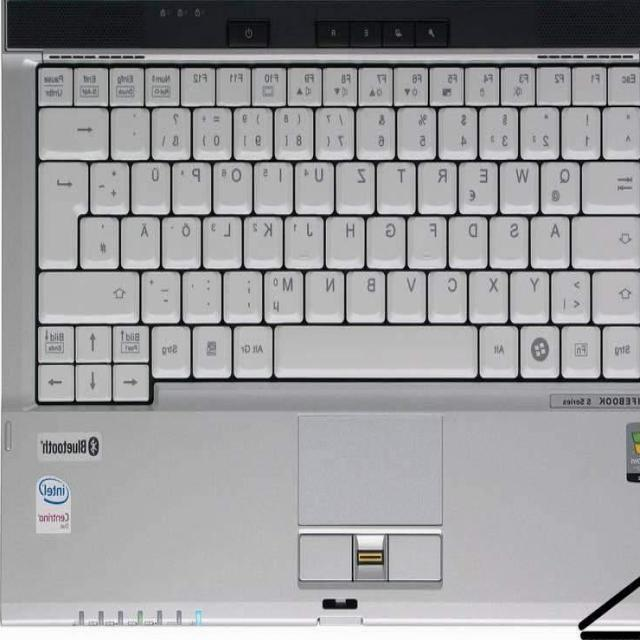0: (195, 103, 235, 157)
1: (565, 103, 603, 156)
2: (523, 103, 563, 157)
3: (482, 103, 522, 157)
4: (441, 103, 480, 157)
5: (400, 103, 440, 157)
6: (359, 103, 398, 157)
7: (317, 103, 357, 157)
8: (276, 102, 316, 158)
9: (235, 103, 275, 157)
a: (533, 211, 572, 265)
accent: (114, 103, 153, 157)
ae: (123, 212, 163, 266)
alt-left: (481, 320, 521, 376)
altgr-right: (235, 320, 275, 376)
b: (349, 265, 389, 319)
c: (430, 266, 470, 319)
caret: (606, 102, 640, 156)
comma: (226, 265, 265, 321)
d: (451, 211, 491, 265)
del: (40, 102, 112, 156)
e: (461, 157, 501, 211)
enter: (41, 158, 91, 266)
f: (410, 211, 449, 267)
g: (370, 212, 409, 265)
h: (328, 212, 368, 265)
hash: (82, 212, 122, 266)
i: (255, 157, 295, 211)
j: (287, 212, 326, 266)
k: (246, 211, 285, 267)
keyboard: (24, 50, 640, 407)
l: (205, 212, 244, 266)
less: (553, 266, 593, 320)
m: (266, 265, 306, 321)
minus: (143, 266, 183, 320)
n: (308, 265, 347, 319)
o: (215, 157, 255, 211)
oe: (164, 213, 204, 266)
p: (174, 156, 214, 212)
plus: (93, 156, 132, 212)
point: (184, 266, 224, 320)
q: (544, 157, 584, 211)
r: (421, 158, 460, 211)
s: (492, 212, 531, 265)
shift-left: (594, 266, 640, 322)
shift-lock: (574, 211, 640, 267)
shift-right: (41, 265, 142, 321)
space: (276, 319, 478, 377)
ss: (154, 103, 194, 157)
strg-left: (603, 320, 640, 376)
strg-right: (153, 320, 193, 376)
t: (380, 157, 418, 211)
tab: (585, 155, 640, 210)
u: (297, 156, 337, 212)
ue: (133, 156, 173, 212)
v: (389, 266, 428, 320)
w: (503, 155, 542, 211)
x: (471, 265, 511, 321)
y: (512, 266, 551, 320)
z: (338, 157, 378, 211)
